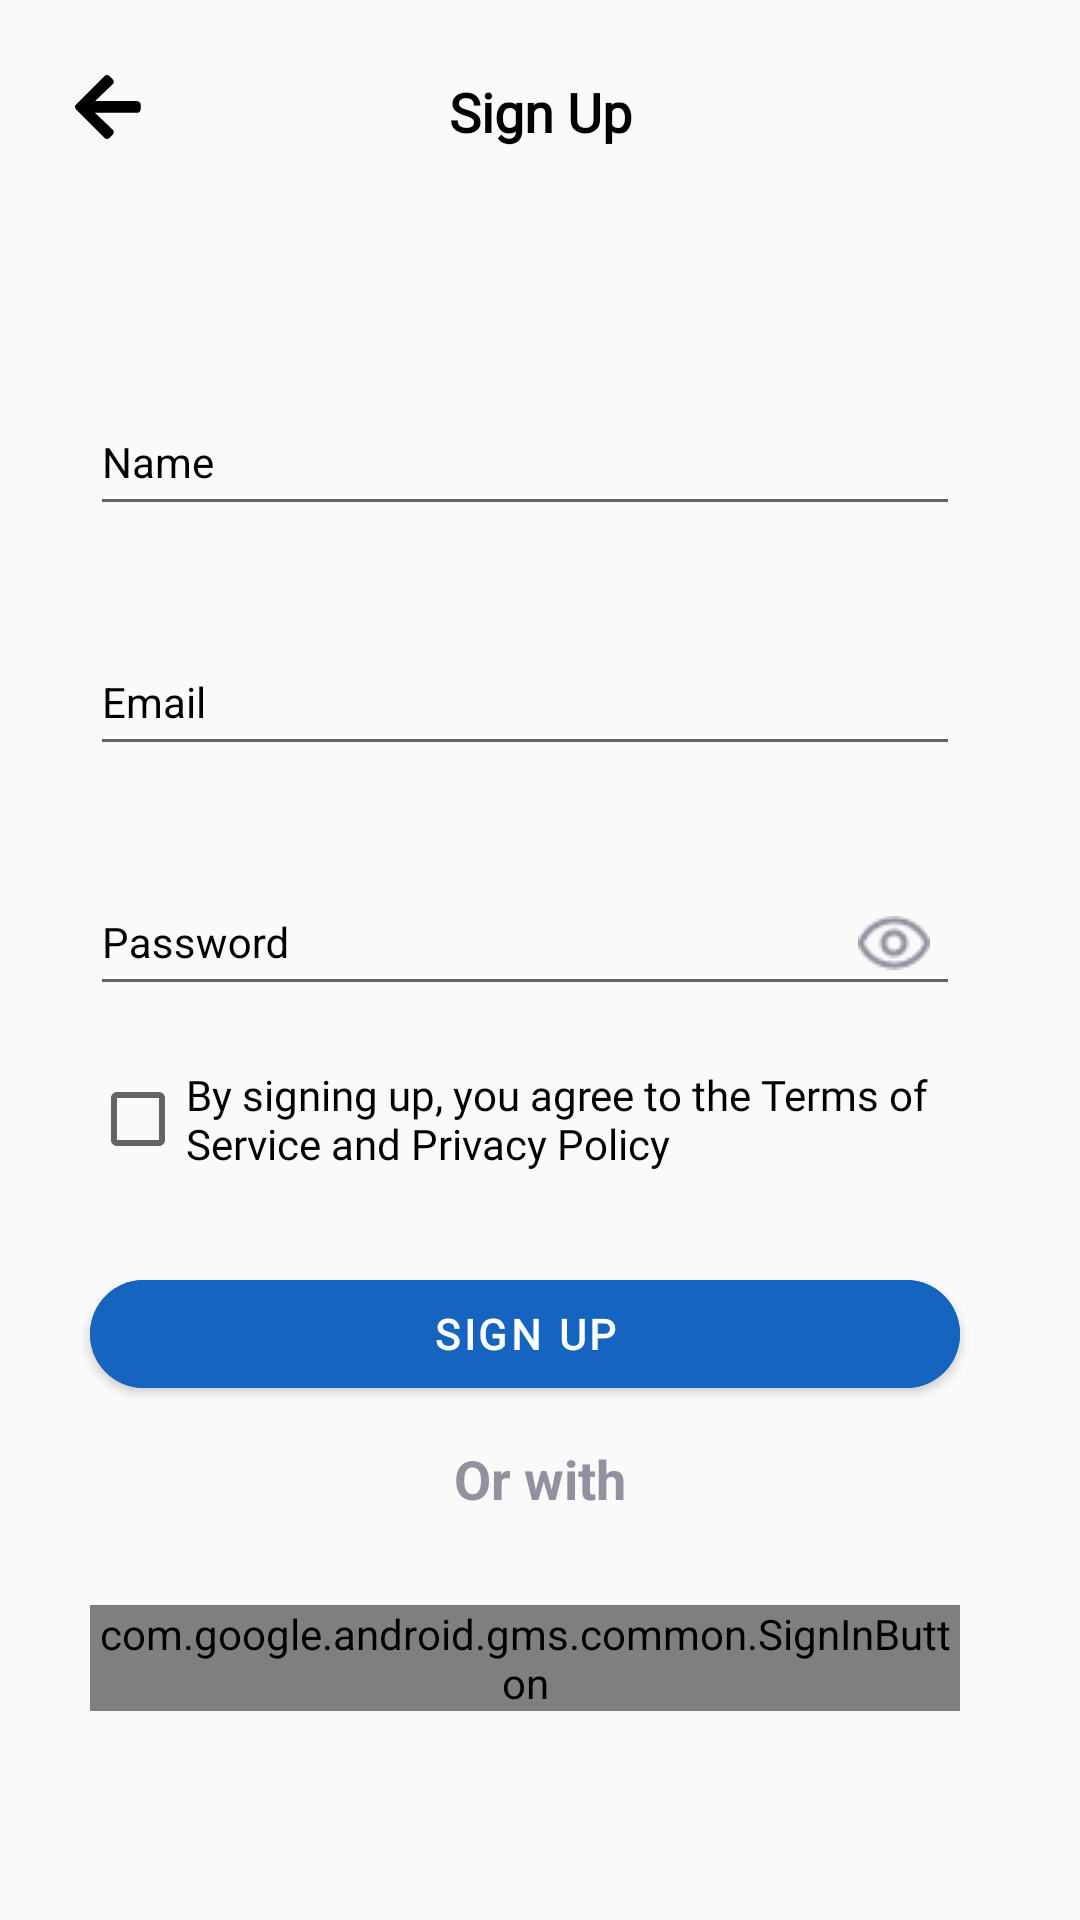

Named icons in this screenshot (1080*1920) and their bounding boxes, box(x1, y1, x2, y2):
back arrow: box(75, 75, 141, 139)
